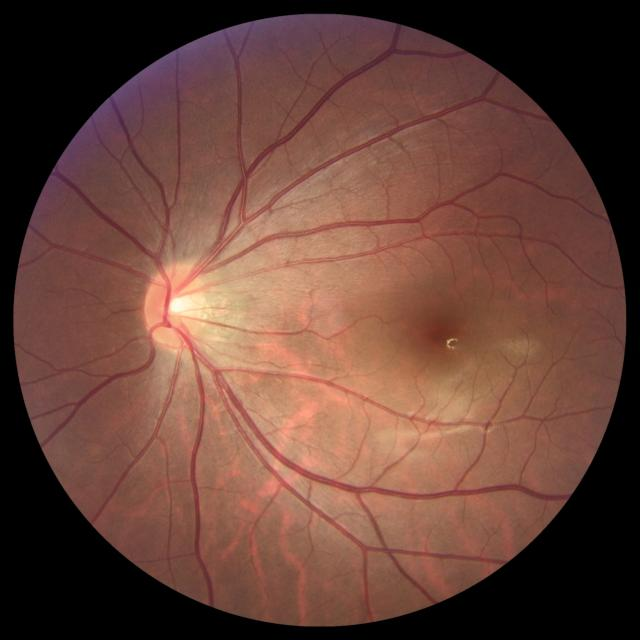OC: (162, 292, 193, 321)
OD: (145, 264, 208, 352)
